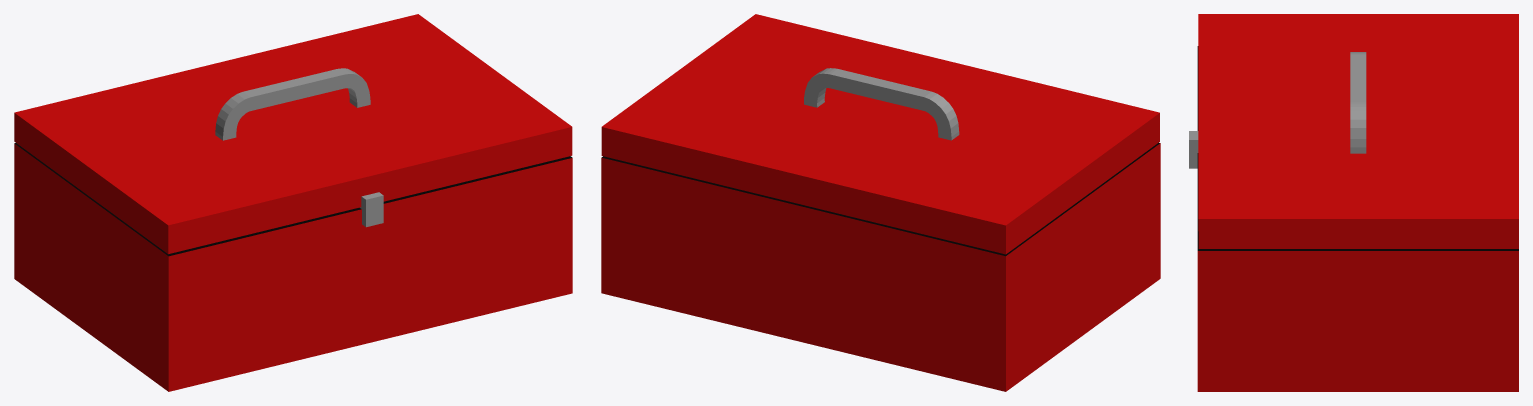
File: toolboxdeposito.fbx
3 renders of one model, left to right at view 1: azimuth 30°, elevation 25°; view 2: azimuth 150°, elevation 25°; view 3: azimuth 270°, elevation 25°, orthographic. The views are drawn at different scales.
Parts seen in each view (by area): view 1: Cube; view 2: Cube; view 3: Cube.
Part boxes in pixels (box(x1,y1,x2,y2)): Cube: box(14, 14, 572, 391); Cube: box(601, 14, 1160, 391); Cube: box(1189, 14, 1518, 391).
Size of the model in its own units: 6095 by 2926 by 4144.
Materials: 1 (1 with a texture image).
